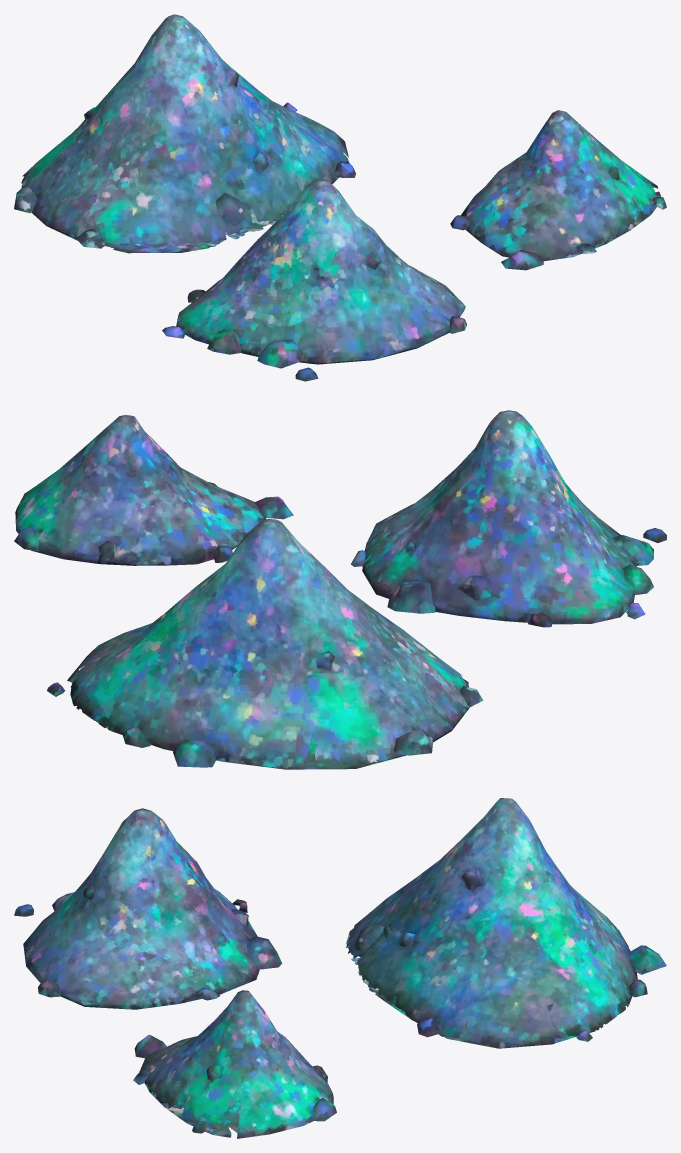
3 views of the same model, one above another, from view 1: azimuth 30°, elevation 25°; view 2: azimuth 150°, elevation 25°; view 3: azimuth 270°, elevation 25° (orthographic). The views are drawn at different scales.
Visible parts, largest first — view 1: SM_ShimmerScale_Powder_01_LOD0; view 2: SM_ShimmerScale_Powder_01_LOD0; view 3: SM_ShimmerScale_Powder_01_LOD0.
Part boxes in pixels (bbox=[...]): SM_ShimmerScale_Powder_01_LOD0: bbox=[14, 14, 666, 381]; SM_ShimmerScale_Powder_01_LOD0: bbox=[14, 410, 666, 769]; SM_ShimmerScale_Powder_01_LOD0: bbox=[14, 798, 666, 1138].
Size of the model in its own units: 0.3994 by 0.1211 by 0.4248.
Materials: 1 (1 with a texture image).
